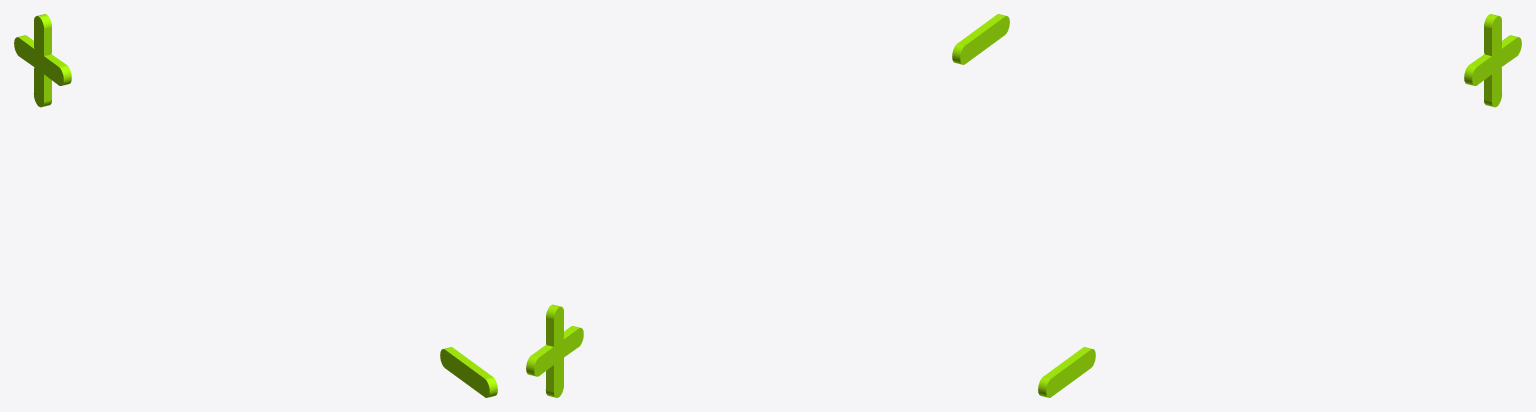
The model's file is Plus&Min.fbx.
The picture shows the model from 3 angles, left to right: view 1: azimuth 30°, elevation 25°; view 2: azimuth 150°, elevation 25°; view 3: azimuth 330°, elevation 25°; orthographic projection.
Parts seen in each view (by area): view 1: Plus, Minus; view 2: Plus, Minus; view 3: Plus, Minus.
Boxes of the visible parts, bbox=[...] form: Plus: bbox=[14, 14, 71, 107]; Minus: bbox=[440, 347, 497, 397]; Plus: bbox=[526, 304, 583, 397]; Minus: bbox=[952, 14, 1009, 64]; Plus: bbox=[1464, 14, 1521, 107]; Minus: bbox=[1038, 347, 1095, 397].
Bounding box in the file's own units: 2.2 × 23.29 × 223.
